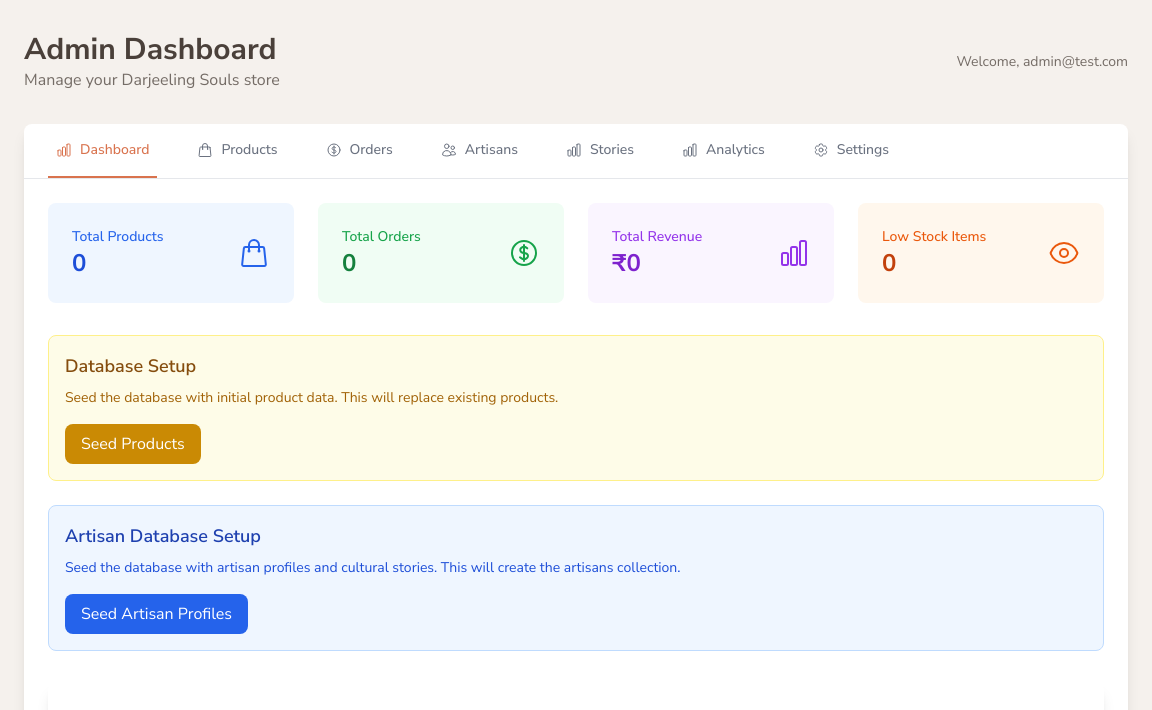
Test: Story Management in Admin Panel › should show stories table with proper columns
What coordinates should you click on to do the following:
click the button "Stories"
I would click on:
 (600, 151)
Its box is [558,124,642,178].
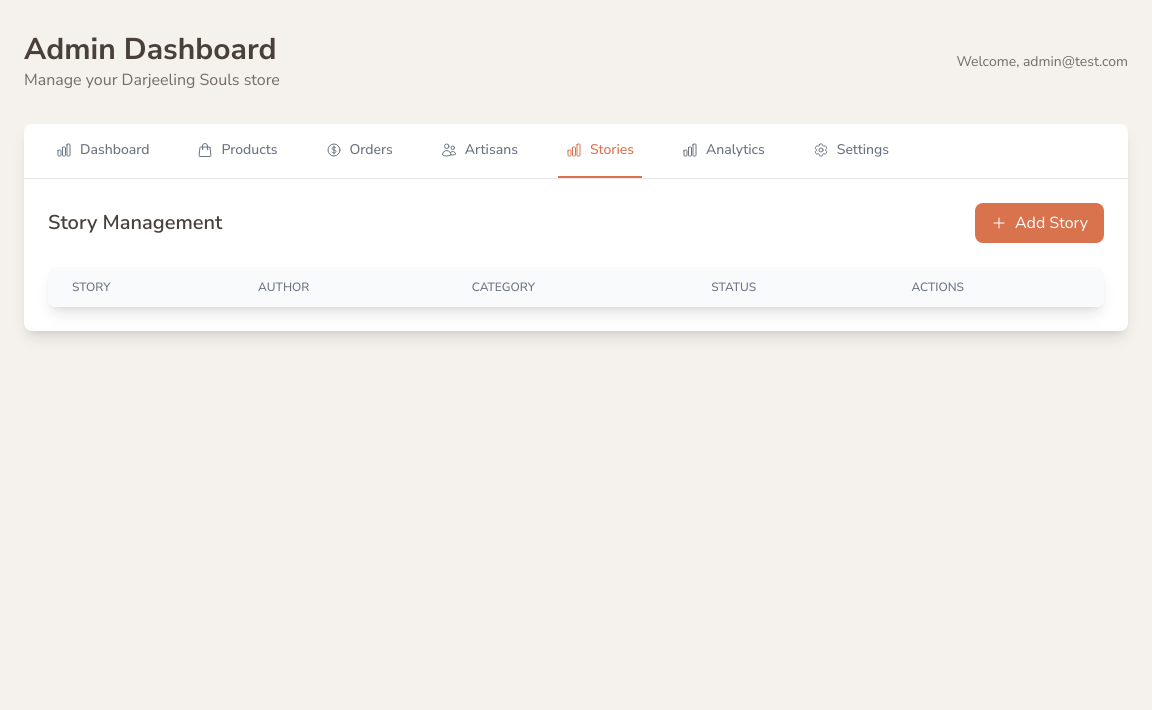
Check: the column heading "Story" is shown, box [48,267,234,307]
Check: the column heading "Author" is shown, box [234,267,448,307]
Check: the column heading "Category" is shown, box [448,267,687,307]
